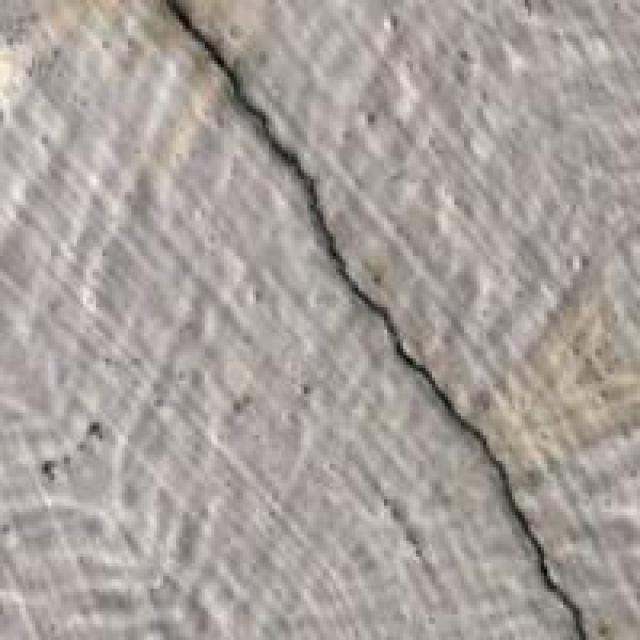Crack: (154, 0, 636, 637)
